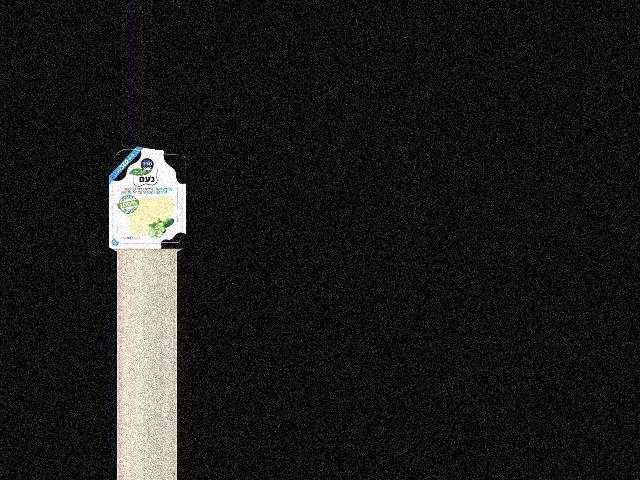cheese: (104, 148, 190, 252)
